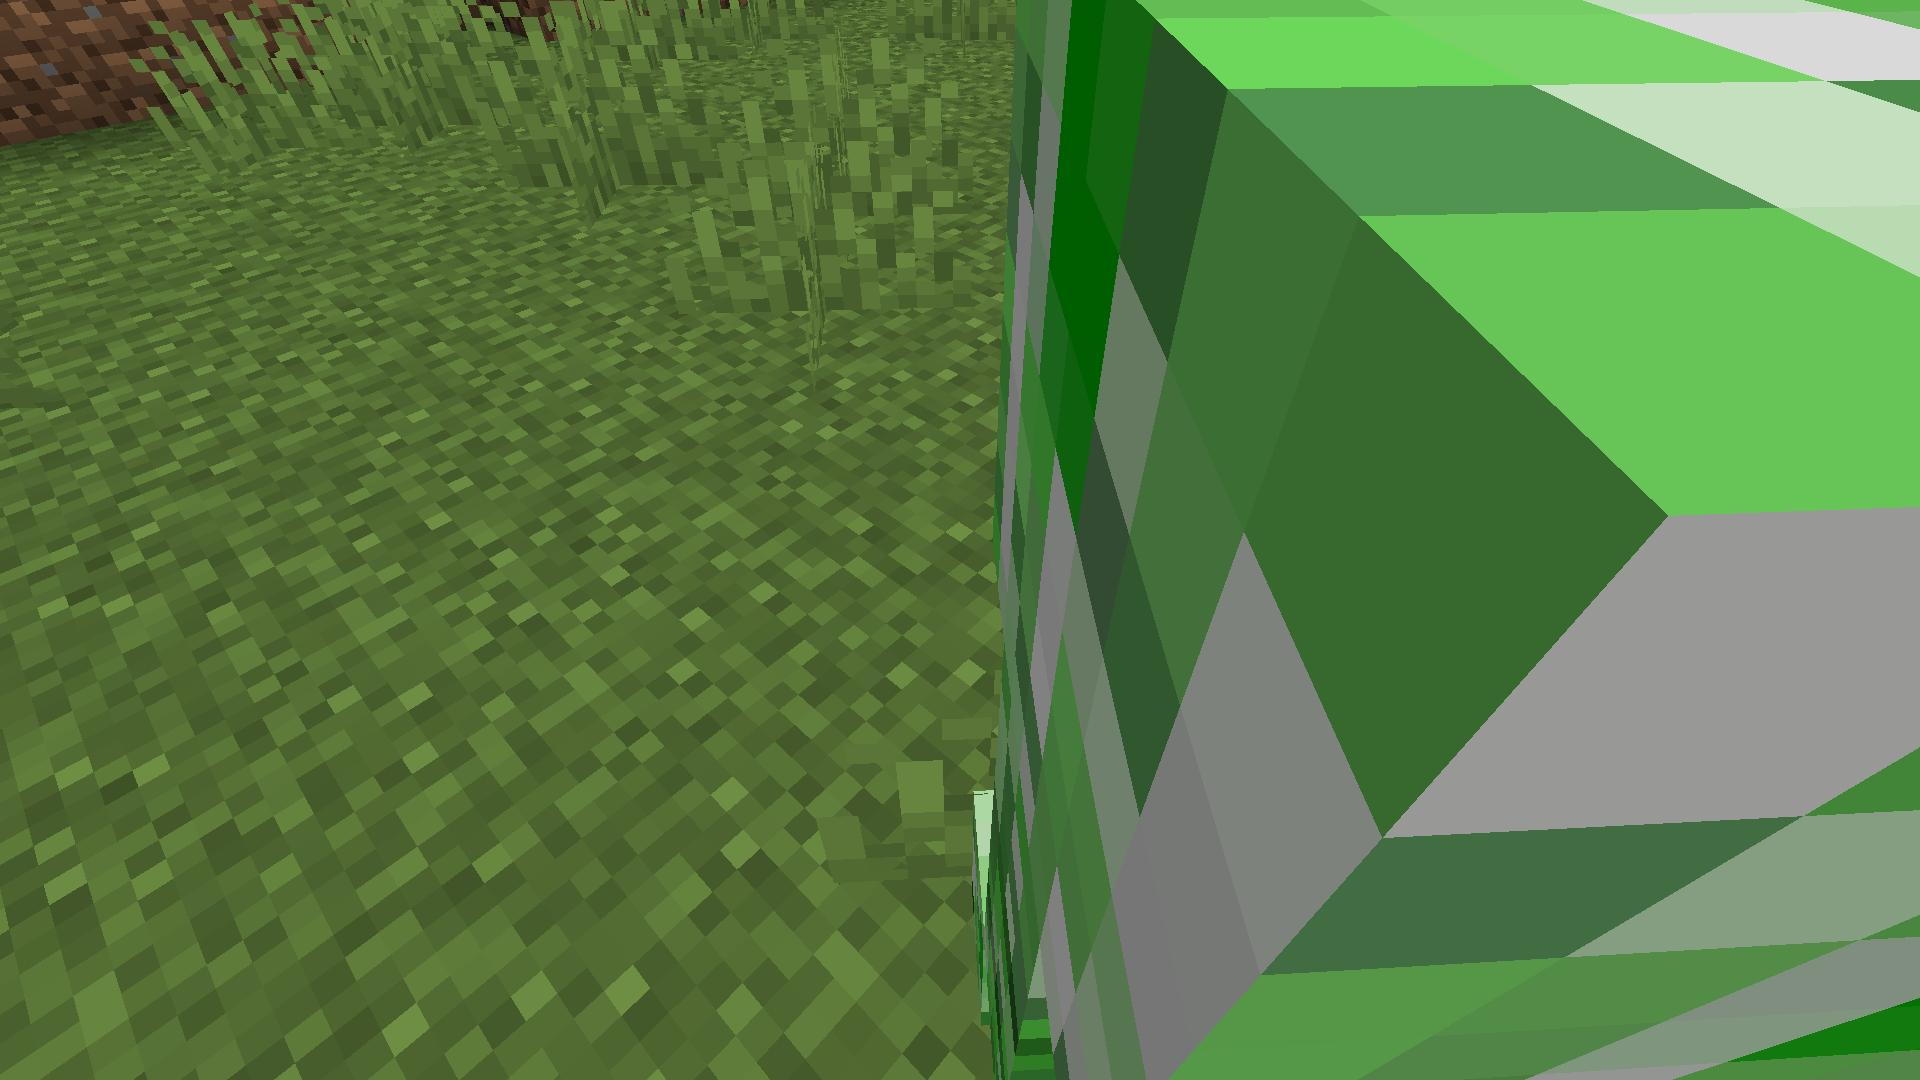creeper: (951, 0, 1920, 1076)
